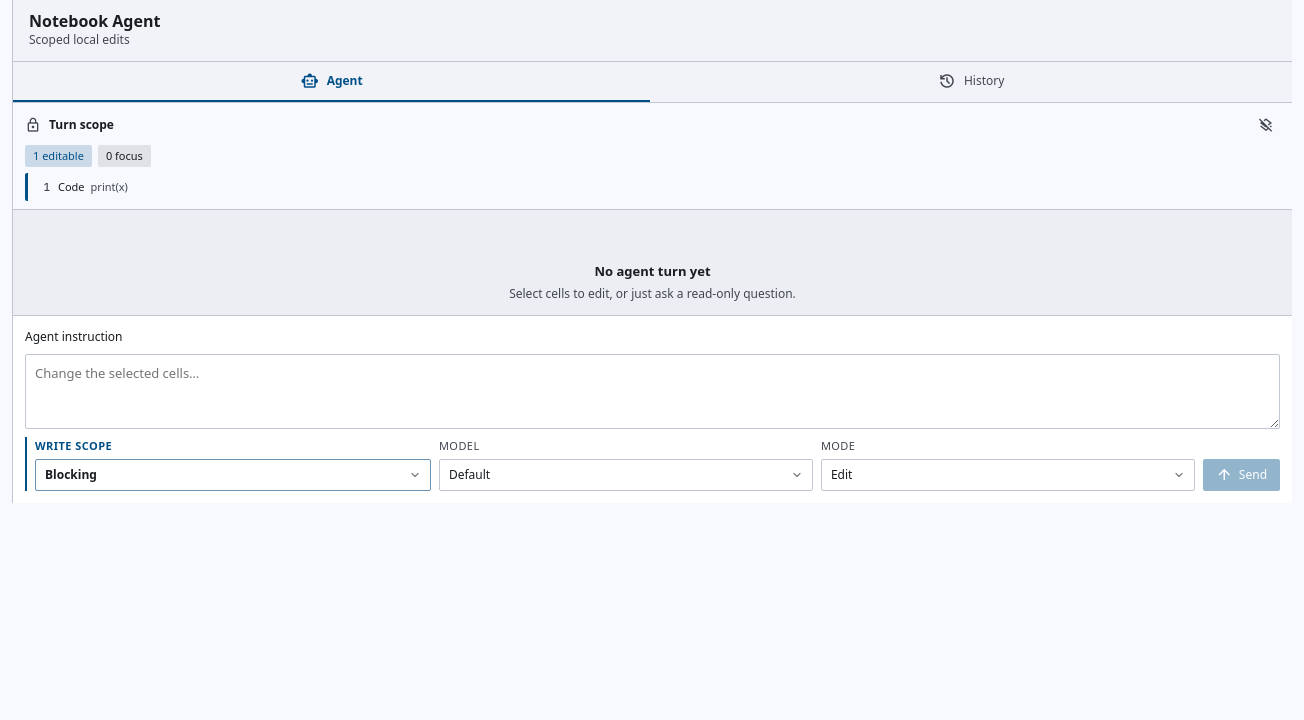
Test: AgentChatPanel write scope (Trusted mode) › hides the editable/context count chips in Trusted (both are attention-only)
Check: the text "1 editable" is shown, box x1=25 y1=145 x2=92 y2=167
Select "Trusted" in the dropdown labelled "Write scope" at (233, 475), box x1=35 y1=459 x2=431 y2=491
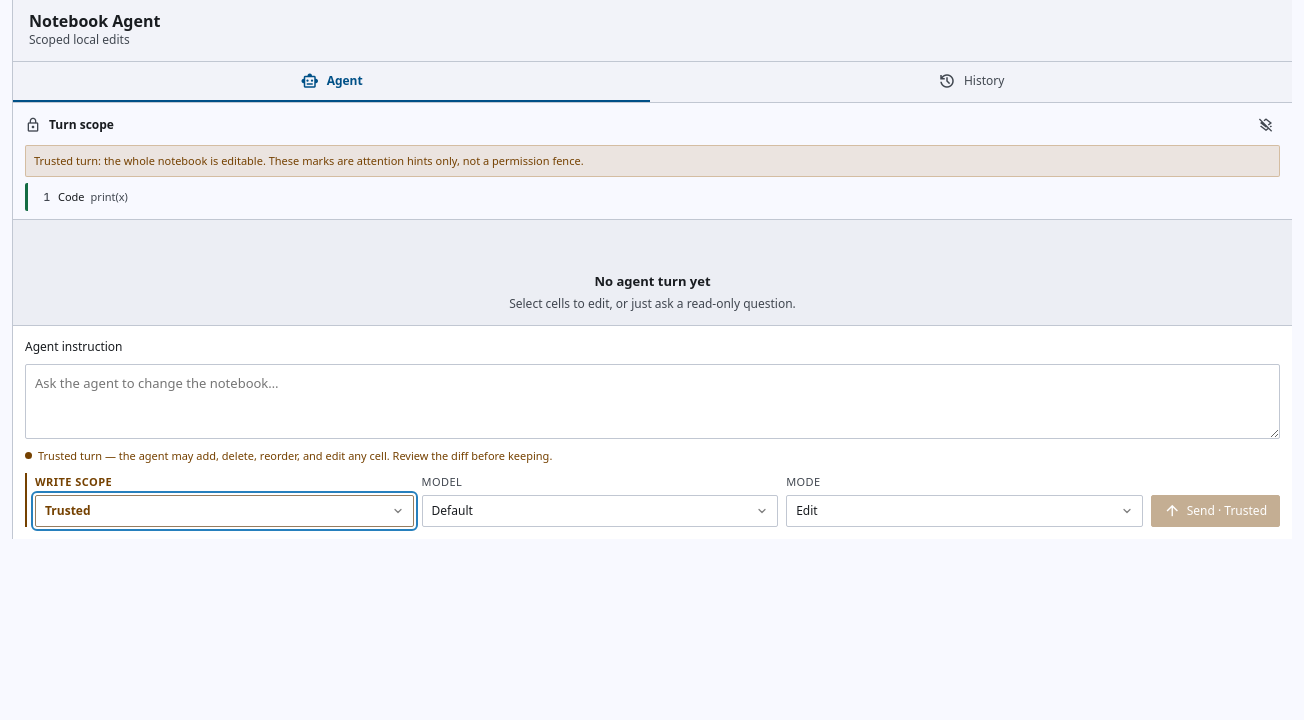
Check: the text "1 editable" is gone
